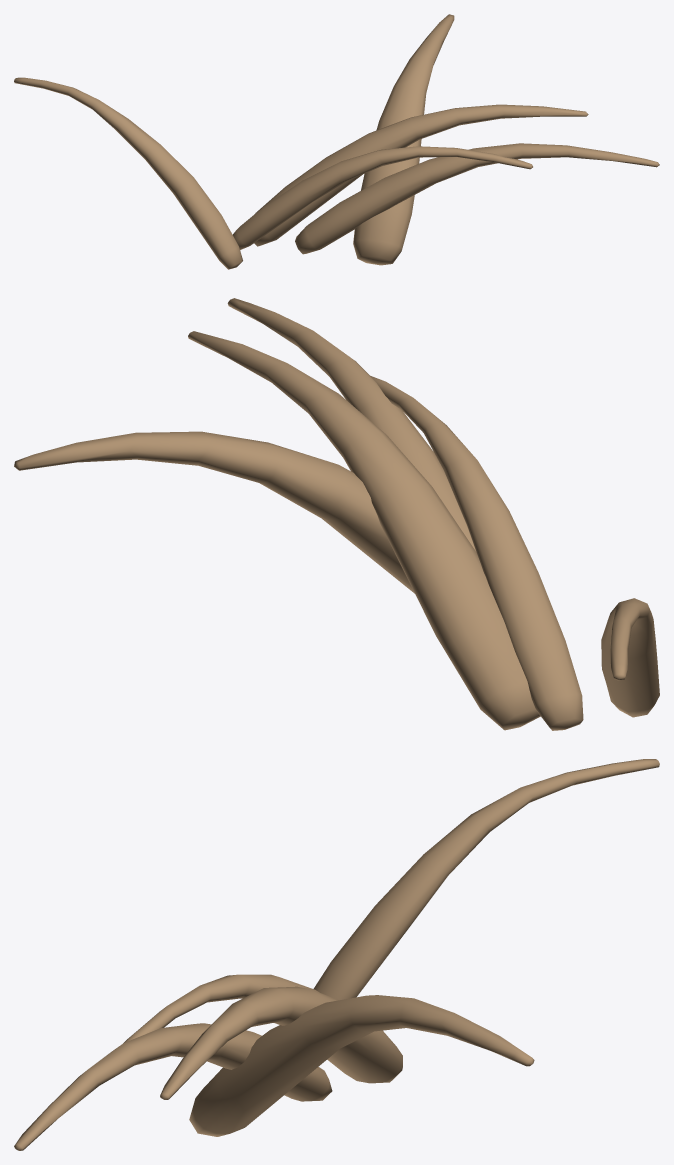
The model's file is roots.glb.
3 renders of one model, top to bottom at view 1: azimuth 30°, elevation 25°; view 2: azimuth 150°, elevation 25°; view 3: azimuth 270°, elevation 25°, orthographic. The views are drawn at different scales.
Parts seen in each view (by area): view 1: Root2, Root3, Root0, Root1, Root4; view 2: Root0, Root4, Root3, Root2, Root1; view 3: Root3, Root1, Root0, Root2, Root4.
Part boxes in pixels (x1,y1,x2,y2): Root2: [295, 143, 659, 254]; Root3: [353, 14, 454, 265]; Root0: [254, 104, 588, 246]; Root1: [14, 77, 242, 269]; Root4: [233, 146, 532, 249]; Root0: [188, 331, 540, 730]; Root4: [371, 376, 583, 730]; Root3: [14, 431, 414, 593]; Root2: [227, 298, 475, 550]; Root1: [601, 598, 659, 717]; Root3: [189, 995, 534, 1136]; Root1: [313, 759, 659, 1000]; Root0: [160, 986, 402, 1099]; Root2: [14, 1023, 332, 1150]; Root4: [123, 974, 319, 1043].
Bounding box in the file's own units: 1.21 × 0.3728 × 1.
